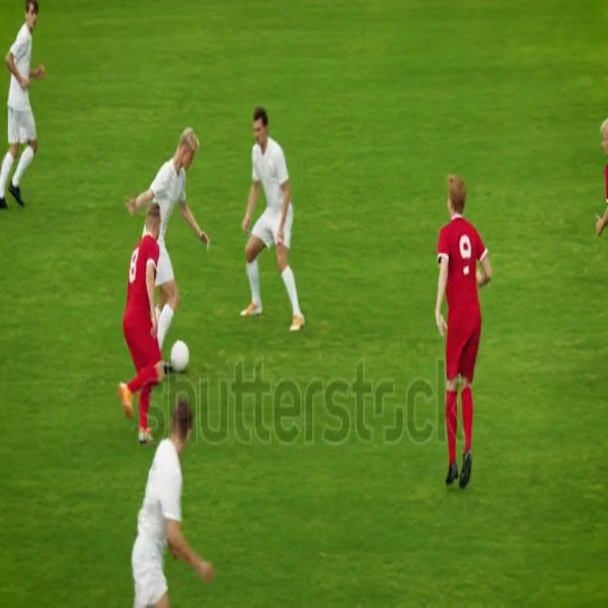ball: (165, 335, 194, 381)
